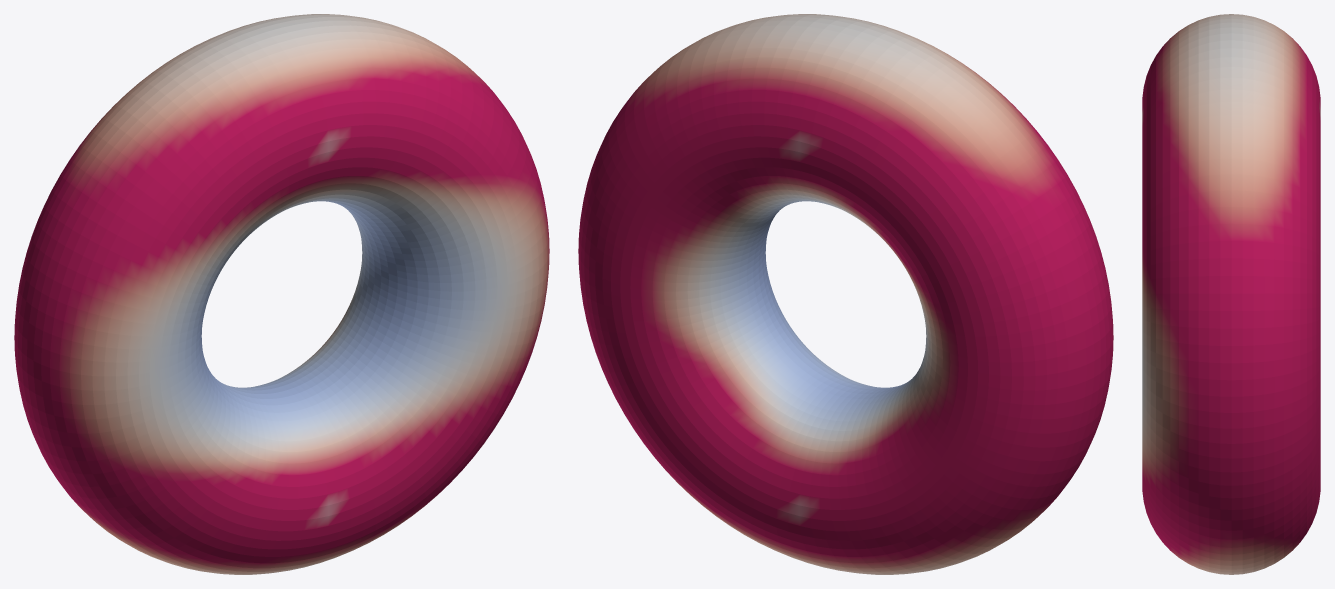
3 views of the same model, side by side, from view 1: azimuth 30°, elevation 25°; view 2: azimuth 150°, elevation 25°; view 3: azimuth 270°, elevation 25° (orthographic). The views are drawn at different scales.
Parts seen in each view (by area): view 1: world; view 2: world; view 3: world.
Boxes of the visible parts, x1,y1,x2,y2 form: world: [14, 14, 549, 574]; world: [578, 14, 1113, 574]; world: [1142, 14, 1320, 574].
Size of the model in its own units: 26.4 by 26.4 by 8.38.
